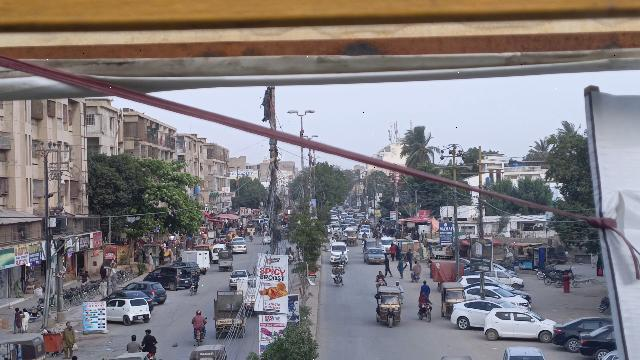Bike: (416, 302, 433, 321), (194, 325, 206, 346), (189, 281, 199, 296), (333, 272, 343, 287)
Car: (483, 307, 552, 344), (450, 299, 509, 331), (549, 314, 601, 350), (578, 318, 616, 357), (104, 297, 151, 326), (143, 264, 193, 291), (124, 280, 169, 305), (502, 345, 545, 360)
Person: (60, 321, 78, 359), (139, 328, 158, 351), (191, 306, 207, 328), (381, 253, 393, 279), (418, 290, 432, 305), (396, 257, 405, 280), (98, 278, 108, 298), (419, 279, 431, 294), (191, 269, 200, 280), (333, 265, 342, 273)
Rickshaw: (374, 285, 404, 329), (438, 281, 465, 318), (186, 345, 231, 360), (216, 249, 235, 273)
Truck: (212, 291, 248, 340), (178, 249, 212, 274)
